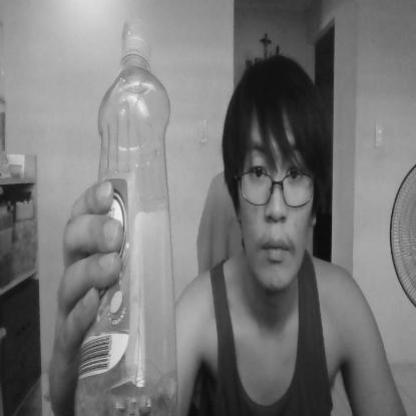Plastic Bottle: (57, 15, 185, 416)
